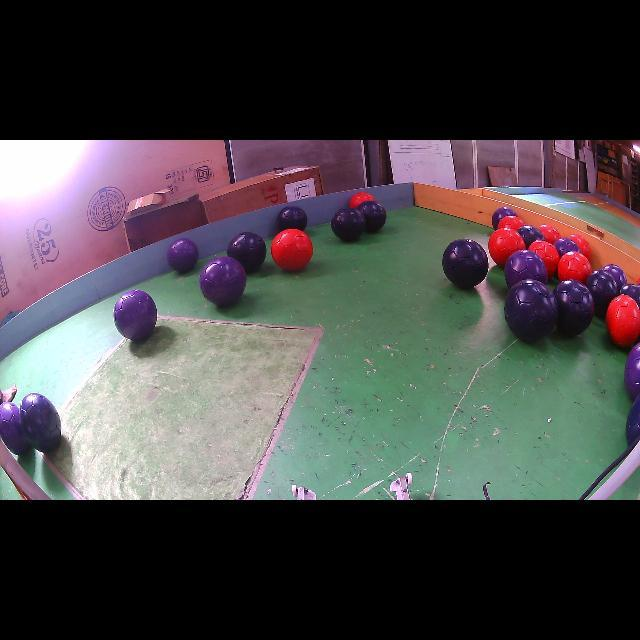B: (504, 280, 559, 342), (20, 392, 61, 452), (442, 239, 489, 289), (554, 280, 594, 336), (586, 270, 619, 318), (228, 232, 266, 271), (331, 208, 366, 241), (358, 201, 386, 231), (276, 206, 308, 231), (625, 394, 640, 445), (518, 225, 545, 248), (620, 284, 640, 308)
P: (199, 256, 246, 306), (114, 290, 158, 340), (505, 250, 548, 288), (0, 402, 30, 455), (168, 239, 199, 272), (625, 342, 640, 400), (602, 264, 628, 291), (492, 206, 518, 230), (554, 238, 581, 258)
R: (606, 295, 640, 348), (271, 229, 312, 270), (489, 228, 526, 268), (529, 241, 560, 278), (558, 251, 592, 284), (569, 234, 591, 260), (498, 215, 525, 231), (539, 225, 561, 244), (349, 192, 375, 208)
